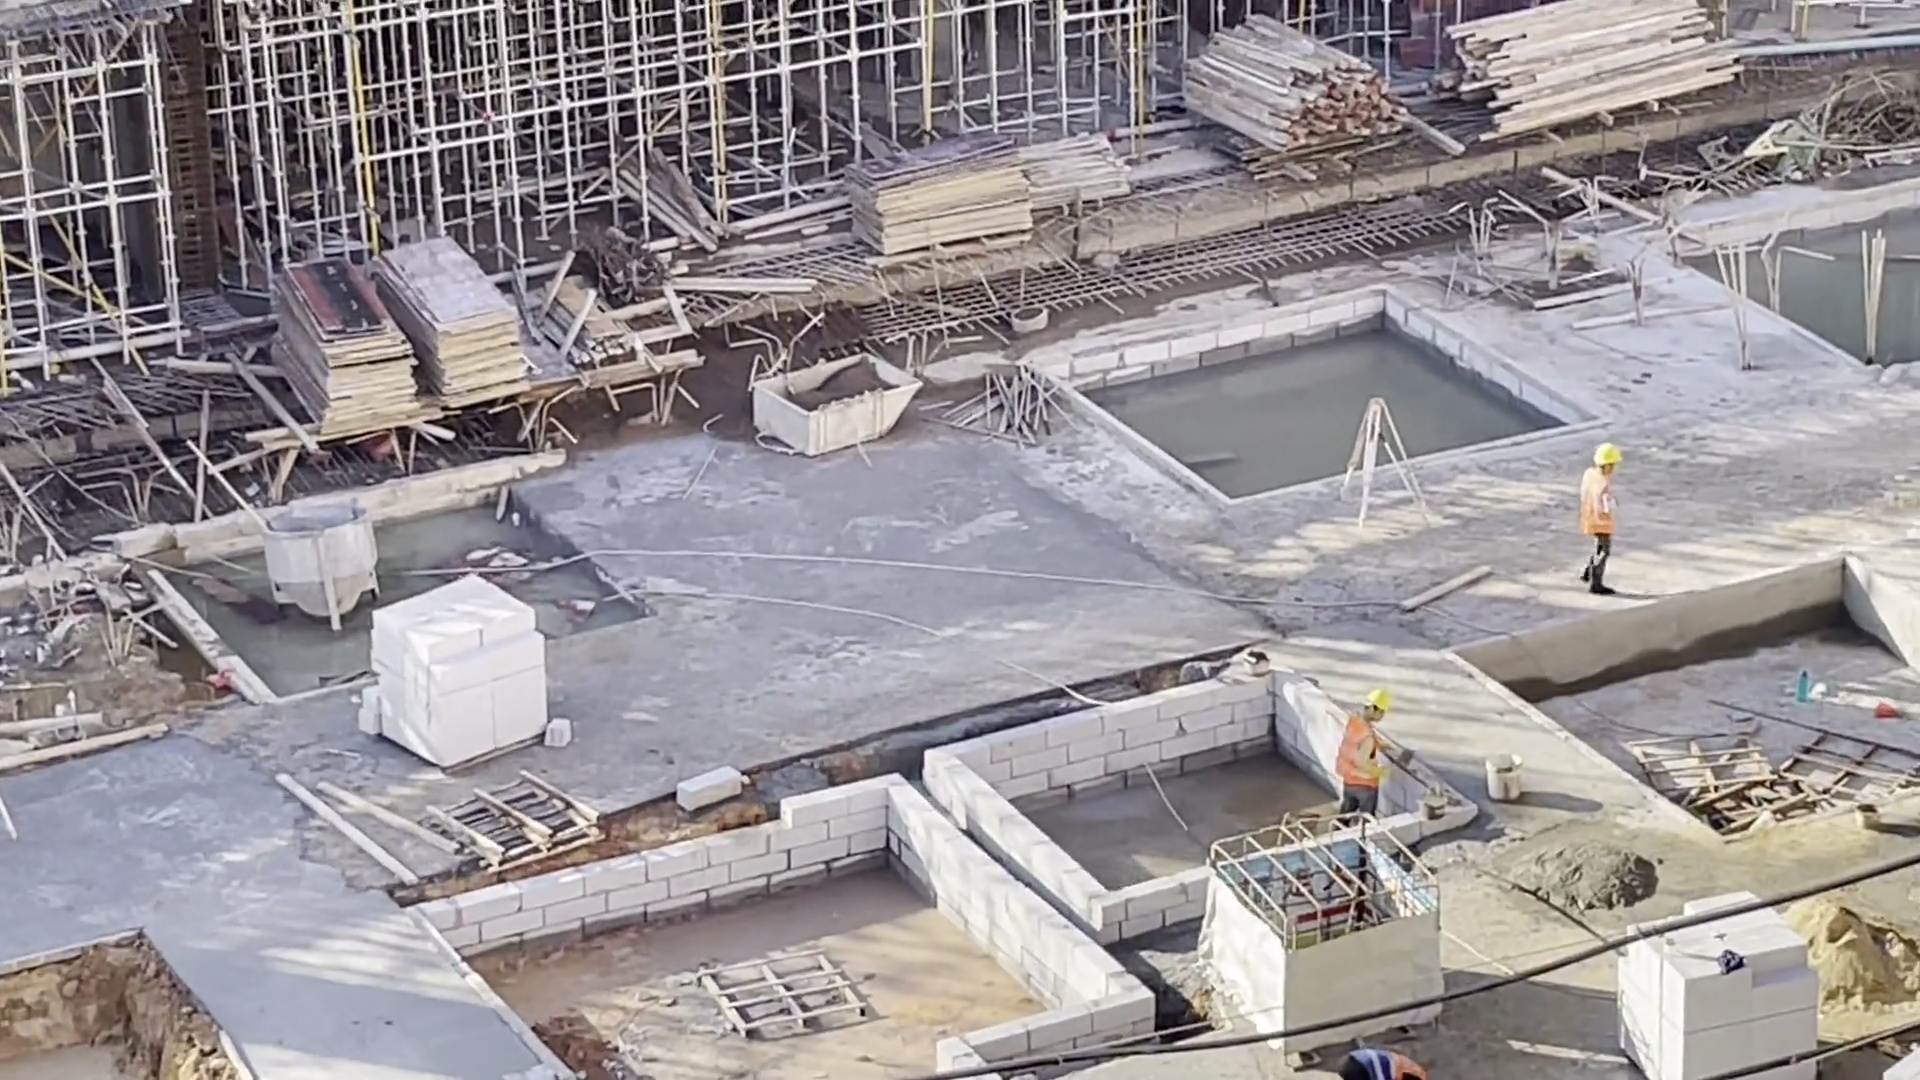board: (361, 229, 511, 409), (246, 257, 388, 442), (886, 149, 1034, 242)
brick: (328, 599, 551, 744), (1674, 892, 1783, 1080)
helmet: (1594, 441, 1626, 466), (1369, 687, 1393, 716)
hopper: (756, 356, 921, 461)
person: (1566, 438, 1628, 595), (1334, 690, 1393, 803), (1343, 1038, 1428, 1080)
vest: (1331, 709, 1381, 782), (1349, 1036, 1413, 1080), (1578, 471, 1614, 541)
wood: (1453, 4, 1719, 142), (1186, 12, 1391, 169)
